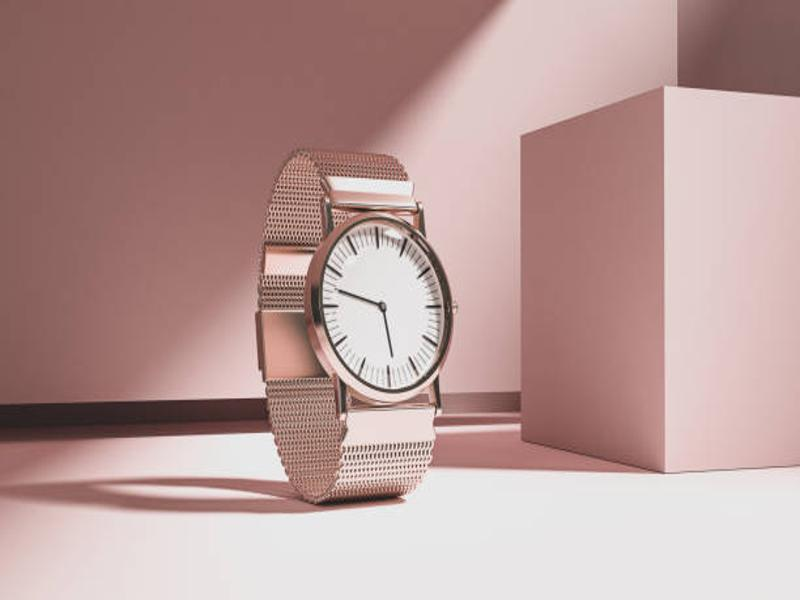watch: (247, 133, 466, 516)
